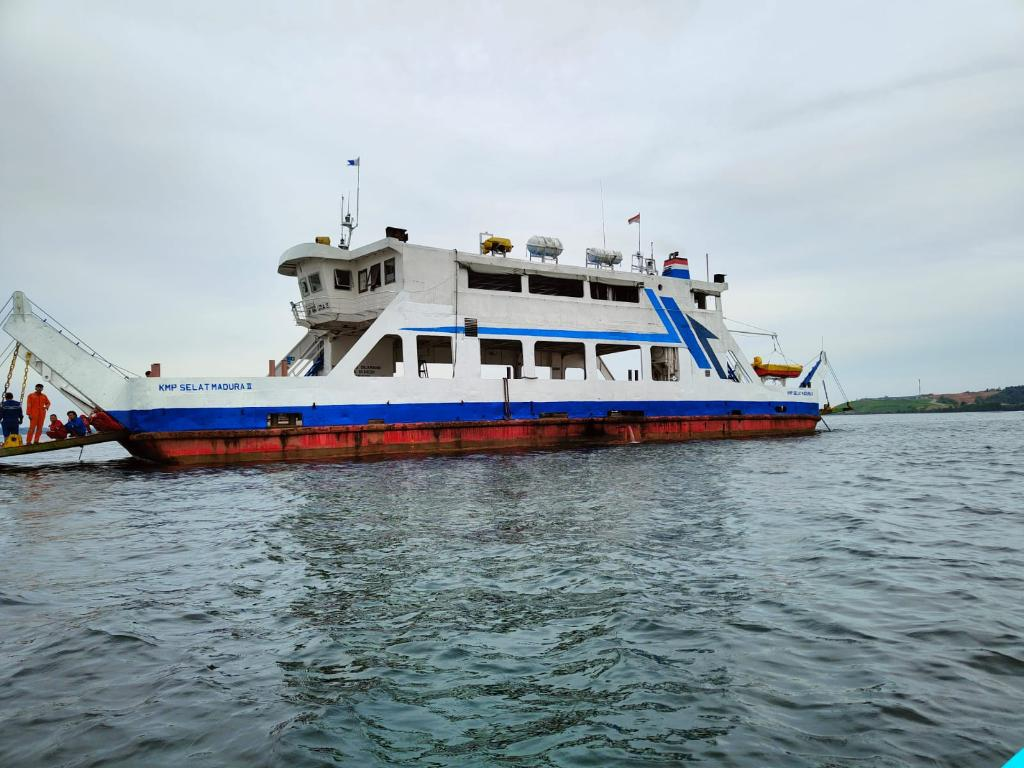PassengerShip: (0, 172, 838, 478)
